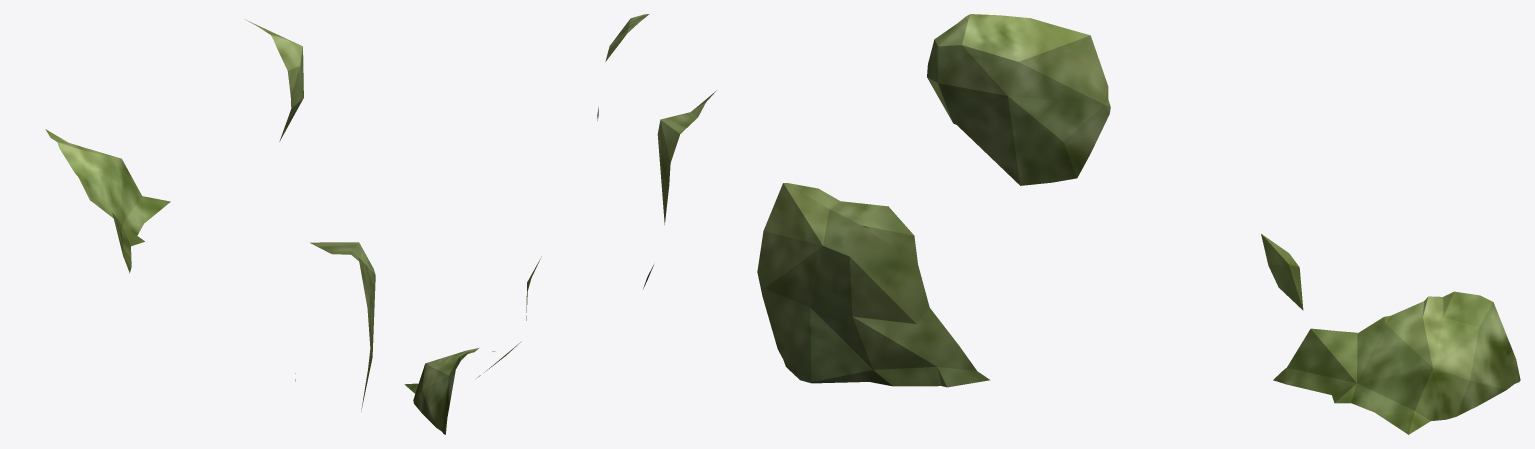
3 views of the same model, side by side, from view 1: azimuth 30°, elevation 25°; view 2: azimuth 150°, elevation 25°; view 3: azimuth 270°, elevation 25° (orthographic). The views are drawn at different scales.
Size of the model in its own units: 0.2846 by 0.8873 by 1.68.
Materials: 1 (1 with a texture image).
